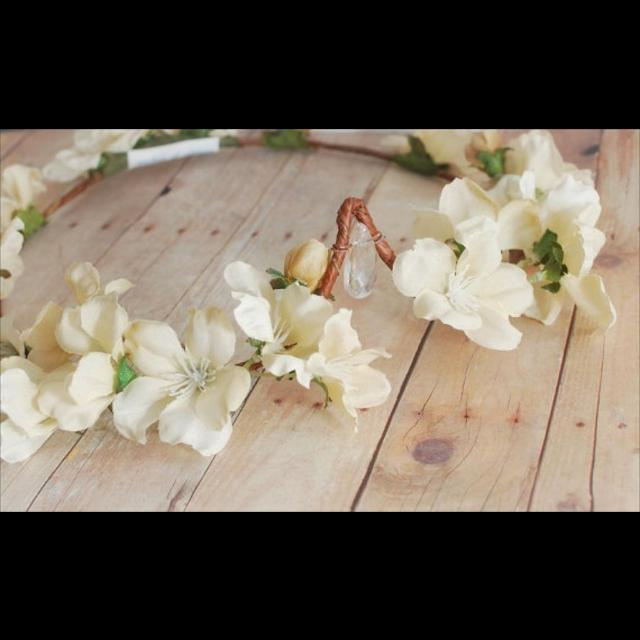Flower: (0, 128, 622, 466)
